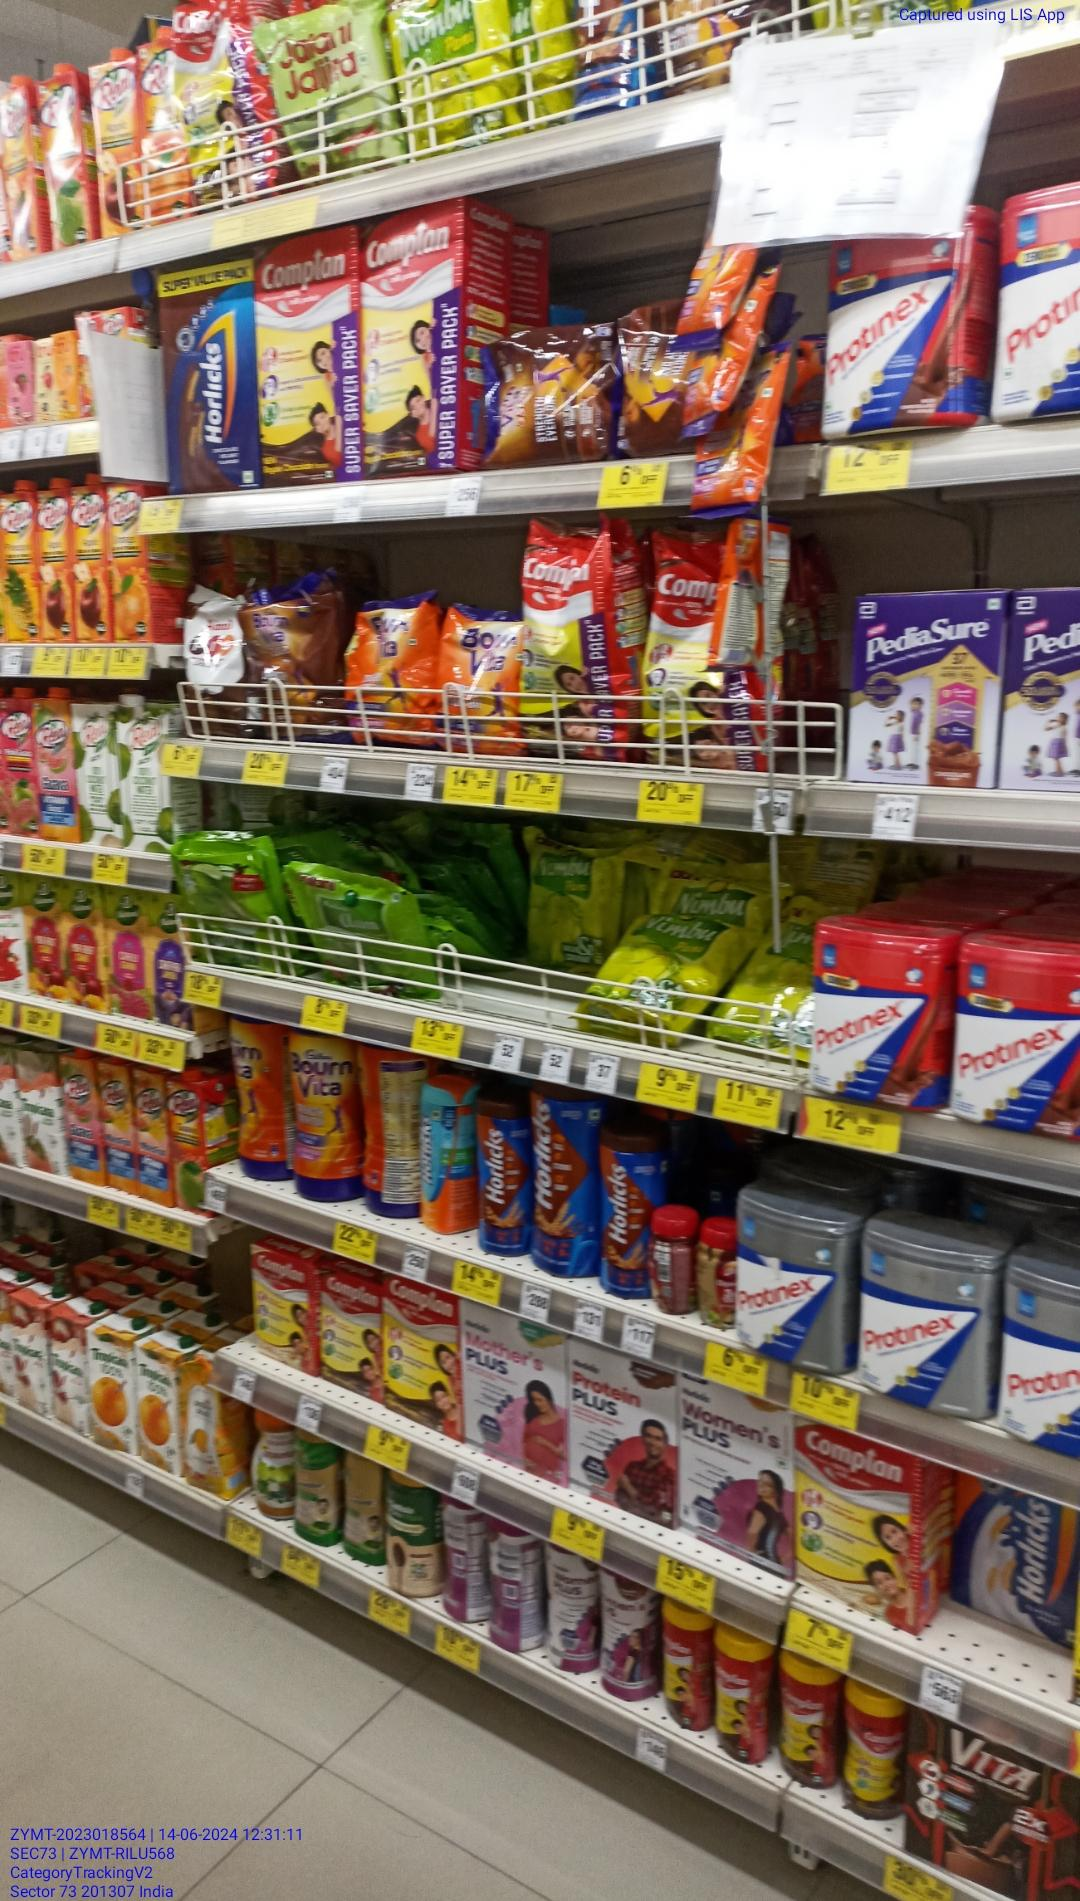BOURN_VITA_FIVE_STAR_MAGIC_500_G_POUCH: (246, 590, 330, 734)
HORLICKS_LITE_REGULAR_MALT_500_GM_JAR: (422, 1085, 465, 1242)
HORLICK_CHOCOLATE_1_KG_JAR: (534, 1095, 598, 1269)
HORLICK_CHOCOLATE_500_G_JAR: (602, 1139, 662, 1296), (481, 1098, 526, 1257)
PEDIASURE_CHOCOLATE_500_G_PACK: (851, 595, 999, 787)
PROTINEX_CHOCOLATE_400_G_JAR: (818, 234, 983, 440)
PROTINEX_ORIGINAL_400_G_JAR: (957, 941, 1080, 1132), (866, 1230, 987, 1409), (808, 943, 945, 1093), (743, 1183, 838, 1374), (1009, 1269, 1080, 1461)
